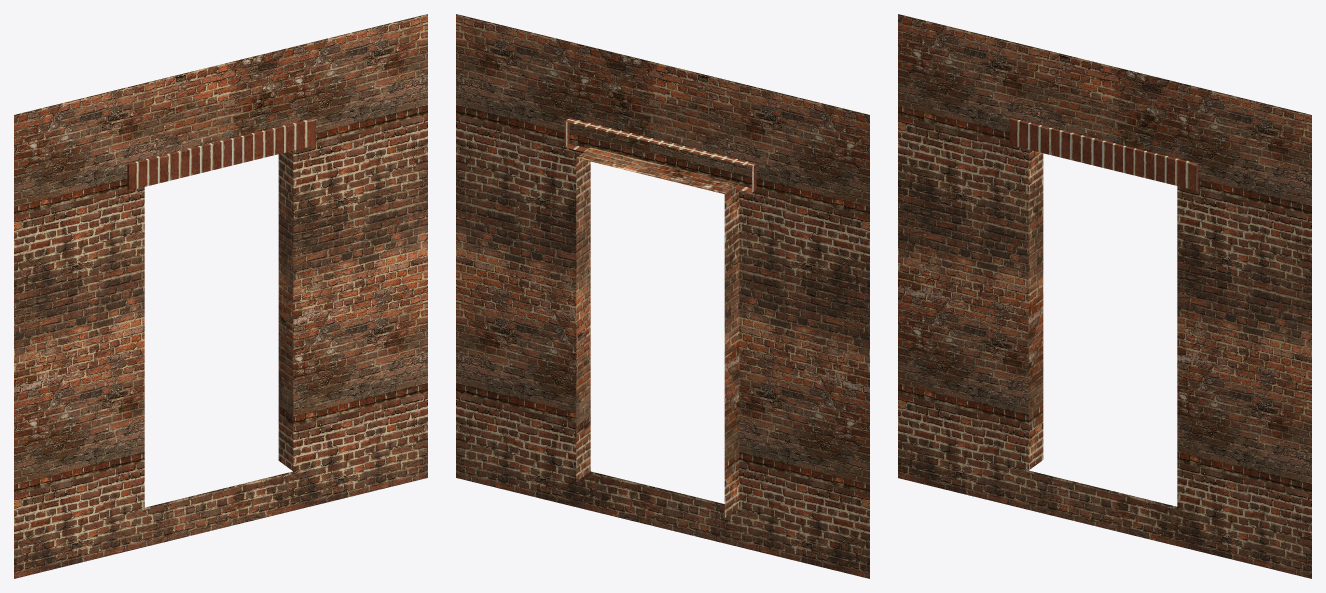
File: BUILDING_singleMainEntranceDoor_01.FBX
3 views of the same model, side by side, from view 1: azimuth 30°, elevation 25°; view 2: azimuth 150°, elevation 25°; view 3: azimuth 330°, elevation 25° (orthographic).
Parts seen in each view (by area): view 1: BUILDING_singleMainEntranceDoor_01; view 2: BUILDING_singleMainEntranceDoor_01; view 3: BUILDING_singleMainEntranceDoor_01.
Part boxes in pixels (x1=…): BUILDING_singleMainEntranceDoor_01: x1=14, y1=14, x2=427, y2=578; BUILDING_singleMainEntranceDoor_01: x1=456, y1=14, x2=869, y2=578; BUILDING_singleMainEntranceDoor_01: x1=898, y1=14, x2=1311, y2=578.
Bounding box in the file's own units: 4.61 × 4.94 × 0.3129.
